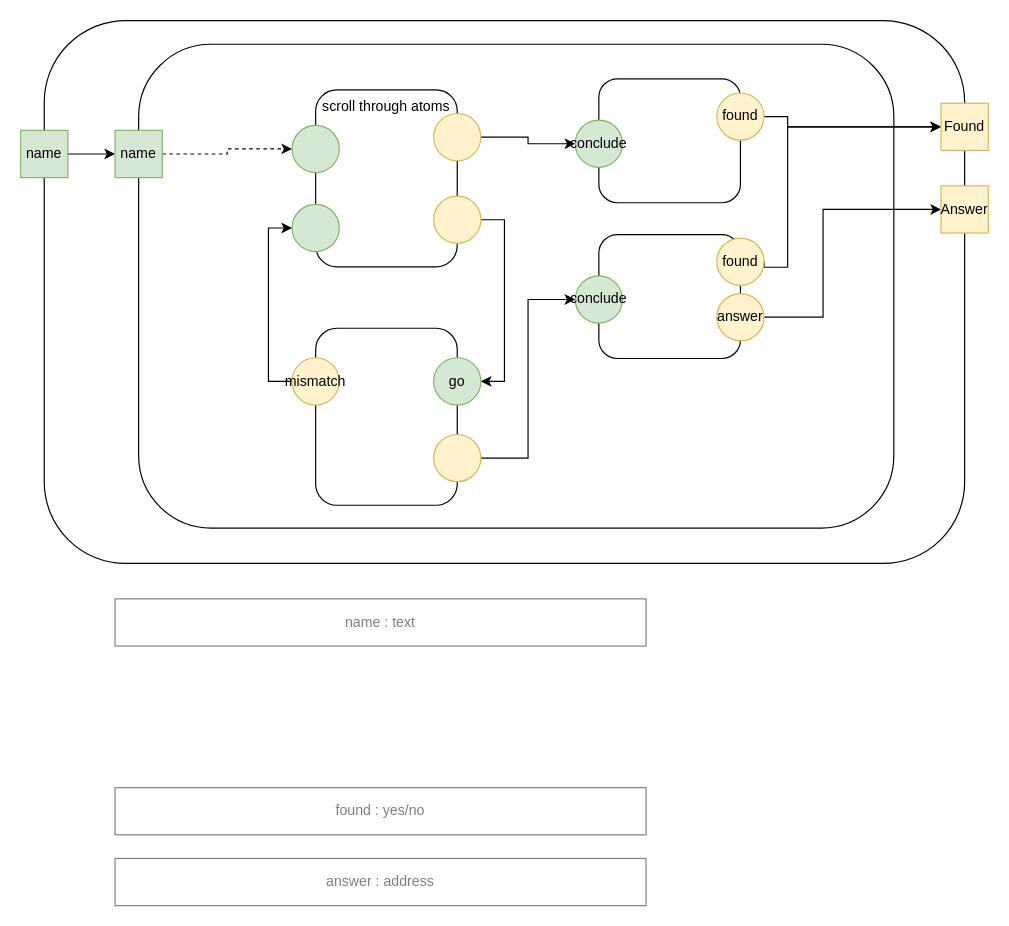
Some shapes in this 1009 by 926 pixel diagram are drawn without their labels. The box of each missing label's shape, as (x1, y1, x2, y2) in pixels:
advance: (291, 203, 339, 252)
EOF: (432, 112, 481, 161)
match single atom name: (314, 327, 457, 505)
ok: (432, 433, 481, 482)
start: (291, 124, 339, 173)
successful: (598, 233, 740, 358)
try 1 name match: (432, 195, 481, 243)
unsuccessful: (598, 78, 740, 203)
